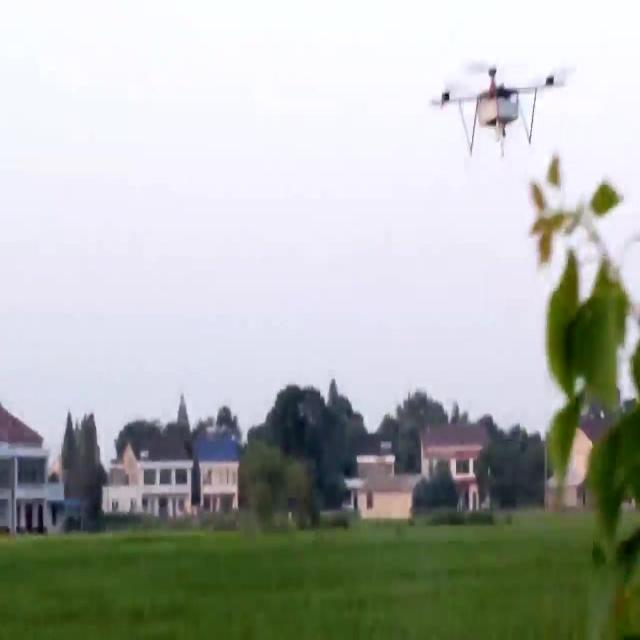drone: (430, 56, 568, 160)
